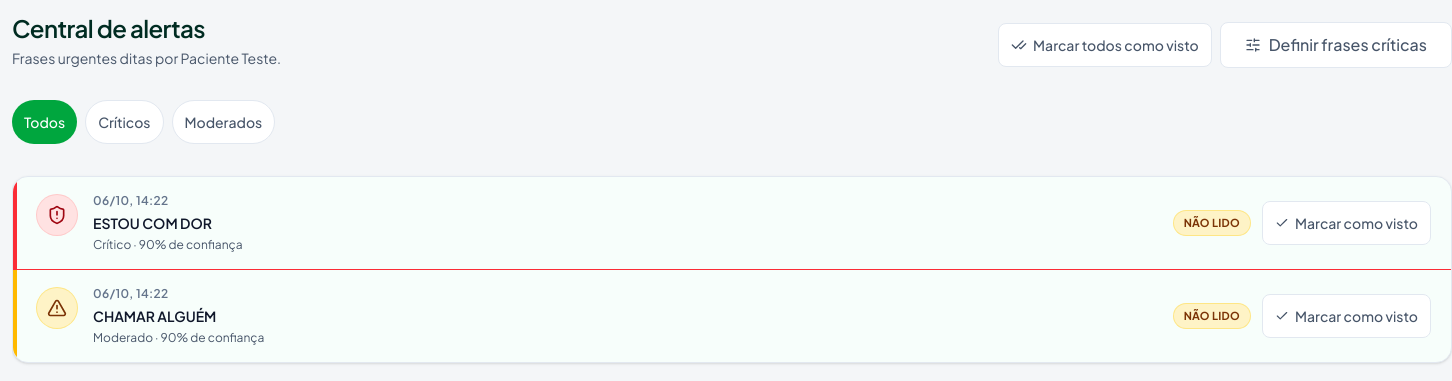
Scenario: AlertsPage › filtra por severidade
Check: the text "ESTOU COM DOR" is shown, box [93, 214, 212, 232]
Click the button "Moderados".
click(223, 122)  # box [172, 100, 275, 144]
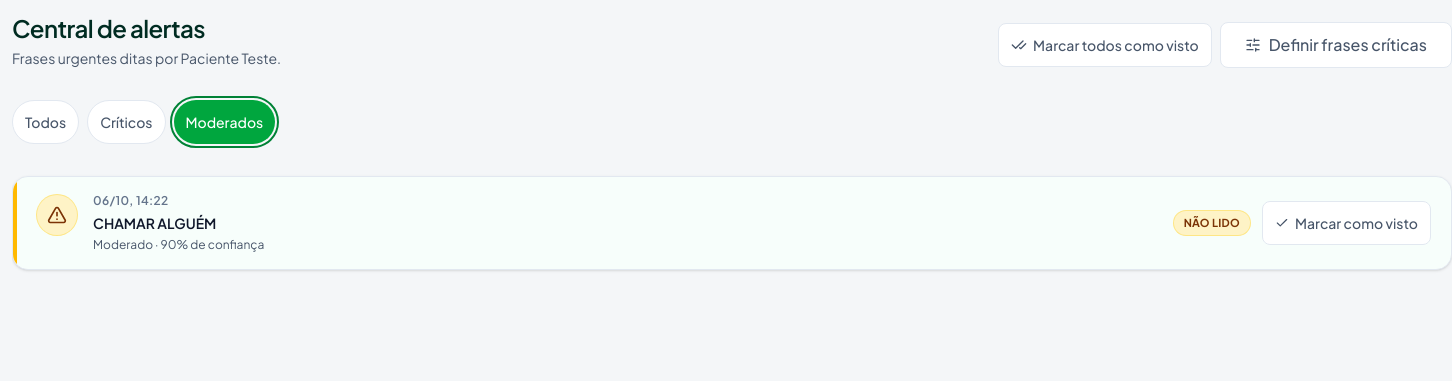
Check: the text "CHAMAR ALGUÉM" is shown, box [93, 214, 216, 232]
Check: the text "ESTOU COM DOR" is gone
